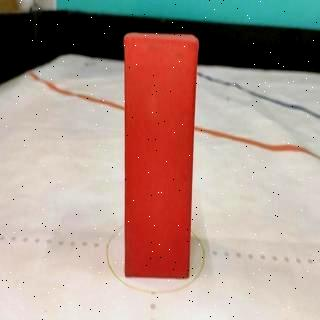redbox: (125, 32, 198, 278)
